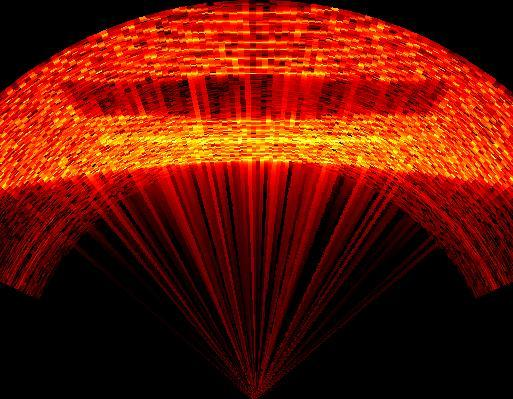pipe: (60, 73, 456, 122)
